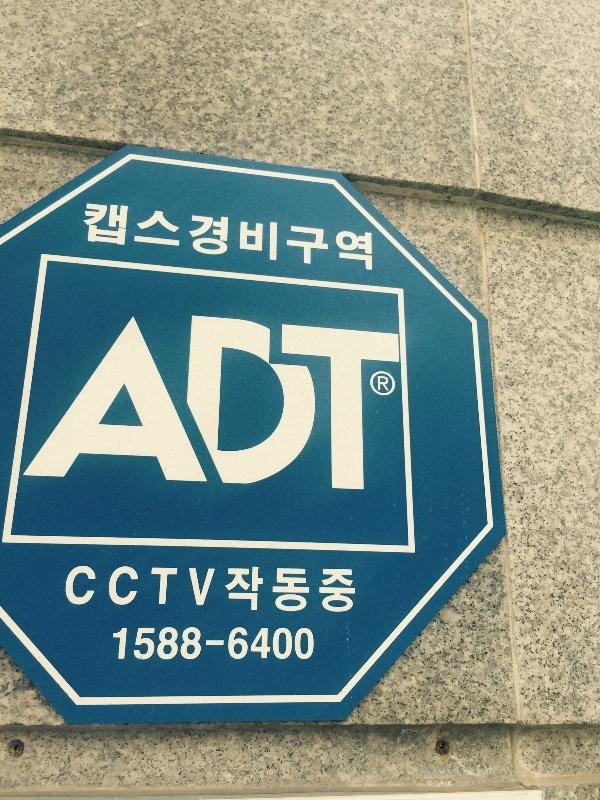text: (145, 311, 160, 499), (161, 311, 176, 499), (177, 311, 192, 499), (193, 311, 208, 499), (209, 311, 224, 499), (225, 311, 240, 499), (241, 311, 256, 499), (257, 311, 272, 499), (273, 311, 288, 499), (289, 311, 304, 499), (305, 311, 320, 499), (321, 311, 336, 499), (337, 311, 352, 499), (353, 311, 368, 499), (369, 311, 384, 499), (385, 311, 400, 499), (137, 311, 144, 499), (97, 202, 112, 274), (113, 202, 128, 274), (129, 202, 144, 274), (145, 202, 160, 274), (161, 202, 176, 274), (177, 202, 192, 274), (193, 202, 208, 274), (209, 202, 224, 274), (225, 202, 240, 274), (241, 202, 256, 274), (257, 202, 272, 274), (273, 202, 288, 274), (289, 202, 304, 274), (305, 202, 320, 274), (321, 202, 336, 274), (337, 202, 352, 274), (353, 202, 368, 274), (85, 202, 96, 274), (241, 566, 256, 616), (257, 566, 272, 616), (273, 566, 288, 616), (289, 566, 304, 616), (305, 566, 320, 616), (321, 566, 336, 616), (337, 566, 352, 616), (226, 566, 240, 616), (81, 564, 96, 609), (97, 564, 112, 609), (113, 564, 128, 609), (129, 564, 144, 609), (145, 564, 160, 609), (161, 564, 176, 609), (177, 564, 192, 609), (193, 564, 208, 609), (113, 628, 128, 662), (129, 628, 144, 662), (145, 628, 160, 662), (161, 628, 176, 662), (177, 628, 192, 662), (193, 628, 208, 662), (209, 628, 224, 662), (225, 628, 240, 662), (241, 628, 256, 662), (257, 628, 272, 662), (273, 628, 288, 662), (289, 628, 304, 662), (69, 564, 80, 609), (370, 370, 384, 400), (209, 564, 218, 609), (401, 311, 403, 499), (305, 628, 316, 662), (385, 370, 396, 400), (369, 202, 373, 274), (353, 566, 357, 616)
